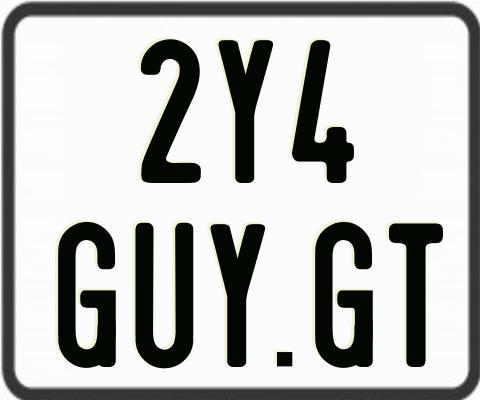2: (141, 37, 202, 181)
4: (290, 38, 353, 181)
G: (55, 222, 119, 374), (312, 219, 371, 366)
T: (389, 221, 443, 365)
U: (132, 222, 194, 371)
Y: (207, 223, 263, 367), (217, 38, 273, 181)
